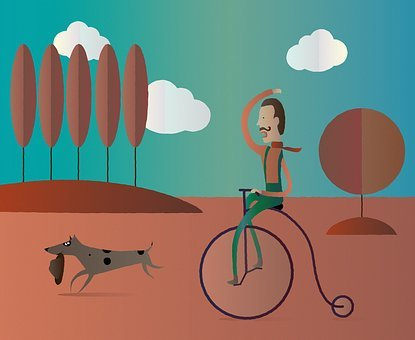bicycle: (191, 183, 358, 322)
dog: (40, 233, 165, 294)
person: (224, 85, 306, 286)
